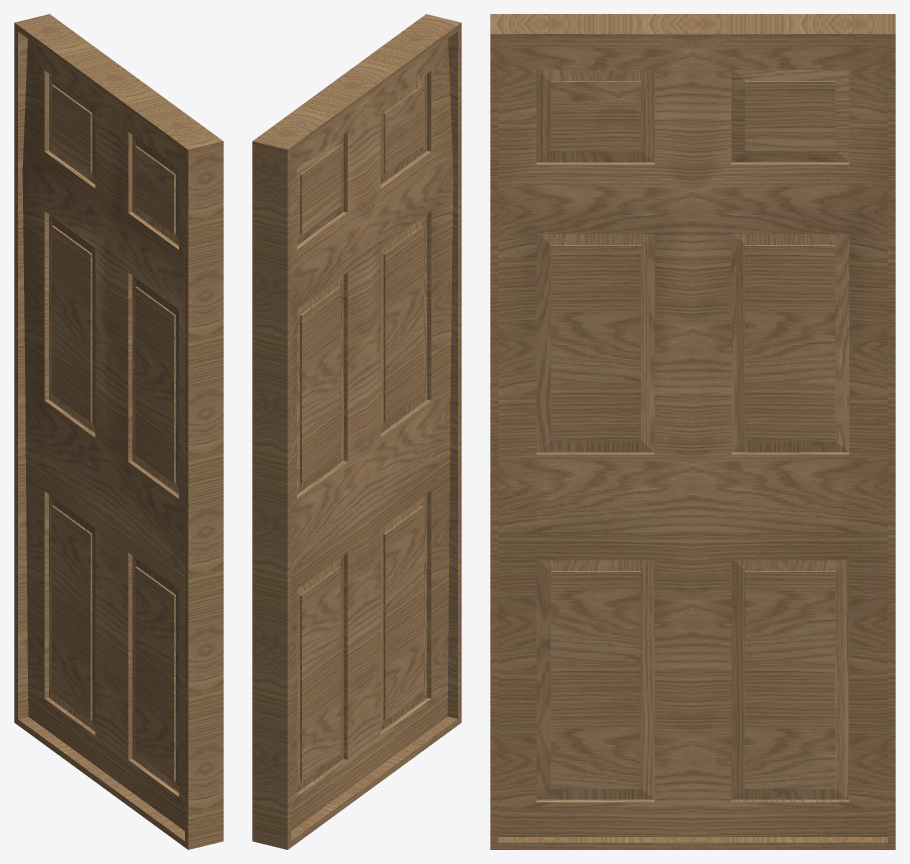
Rendered from door 1.FBX.
The picture shows the model from 3 angles, left to right: view 1: azimuth 30°, elevation 25°; view 2: azimuth 150°, elevation 25°; view 3: azimuth 270°, elevation 25°; orthographic projection. The views are drawn at different scales.
Visible parts, largest first — view 1: Box001; view 2: Box001; view 3: Box001.
Boxes of the visible parts, x1,y1,x2,y2 form: Box001: [14, 14, 223, 849]; Box001: [252, 14, 461, 849]; Box001: [490, 14, 895, 849].
Size of the model in its own units: 4.22 by 80 by 36.
Materials: 1 (1 with a texture image).
